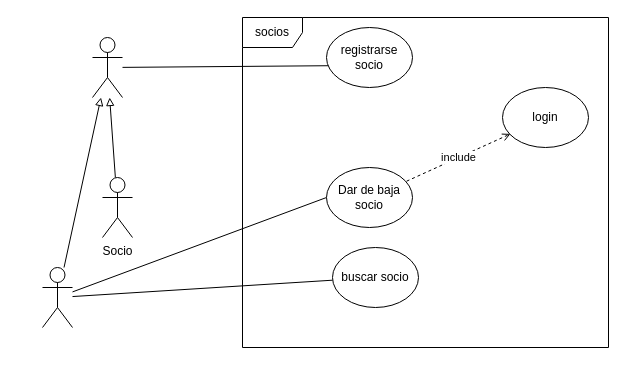
Some shapes in this 626 by 381 pixel diagram are drawn without their labels. Here are the shapes that lost their labels. From the top down, the box of each, then its label:
(92, 36, 122, 98): Usuario
(42, 266, 72, 328): Personal Video Club
